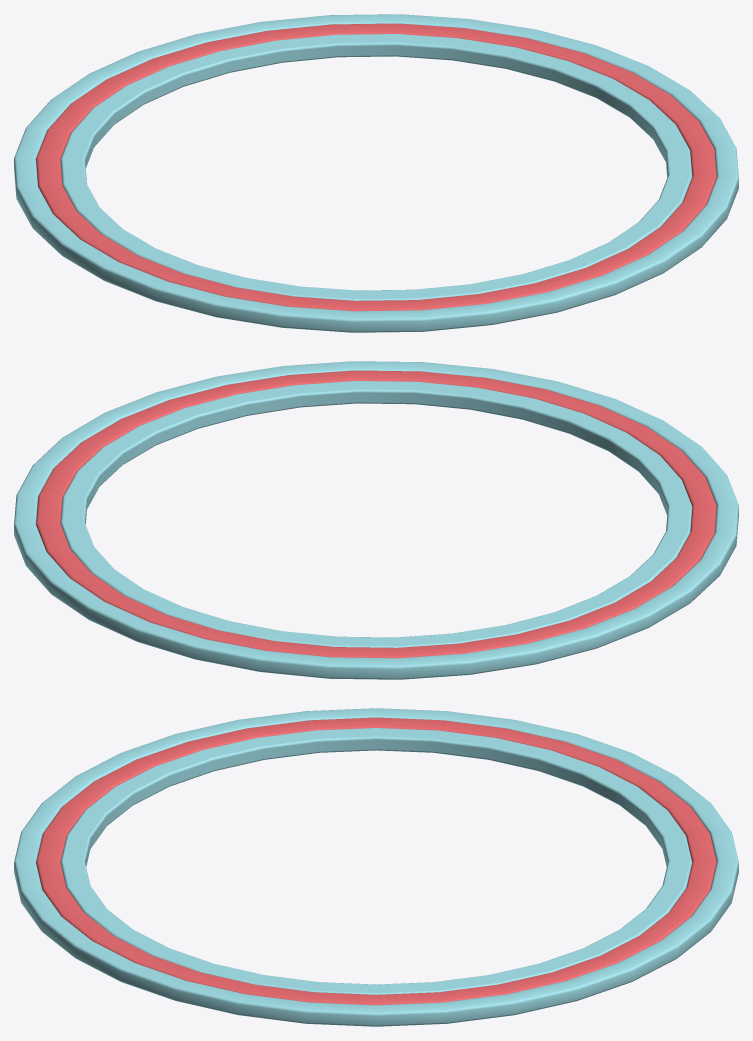
File: rings.glb
3 views of the same model, one above another, from view 1: azimuth 30°, elevation 25°; view 2: azimuth 150°, elevation 25°; view 3: azimuth 270°, elevation 25° (orthographic).
Visible parts, largest first — view 1: OuterRing.002, OuterRing, OuterRing.001; view 2: OuterRing.002, OuterRing, OuterRing.001; view 3: OuterRing.002, OuterRing, OuterRing.001.
Part boxes in pixels (<box>): OuterRing.002: <box>14,14,738,332</box>; OuterRing: <box>60,34,692,300</box>; OuterRing.001: <box>36,23,716,311</box>; OuterRing.002: <box>14,361,738,679</box>; OuterRing: <box>60,381,692,647</box>; OuterRing.001: <box>36,370,716,658</box>; OuterRing.002: <box>14,708,738,1026</box>; OuterRing: <box>60,728,692,994</box>; OuterRing.001: <box>36,717,716,1005</box>.
Size of the model in its own units: 5.54 by 0.1176 by 5.54.
